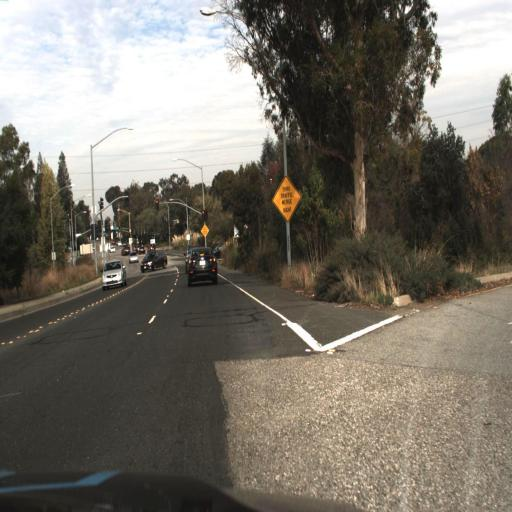car: (189, 246, 220, 286), (99, 254, 127, 294), (138, 245, 173, 274), (137, 246, 168, 270), (99, 260, 124, 288)
trafficLight-Red: (152, 190, 161, 220), (198, 204, 208, 226)
